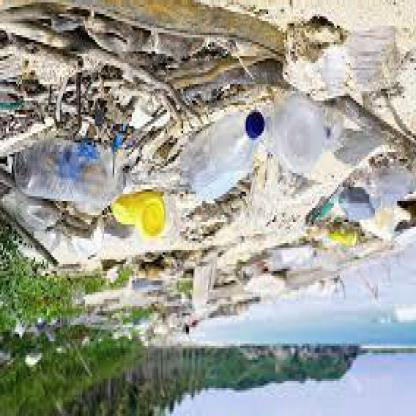Plastic: (182, 107, 266, 209), (10, 142, 127, 211), (271, 97, 327, 172)
